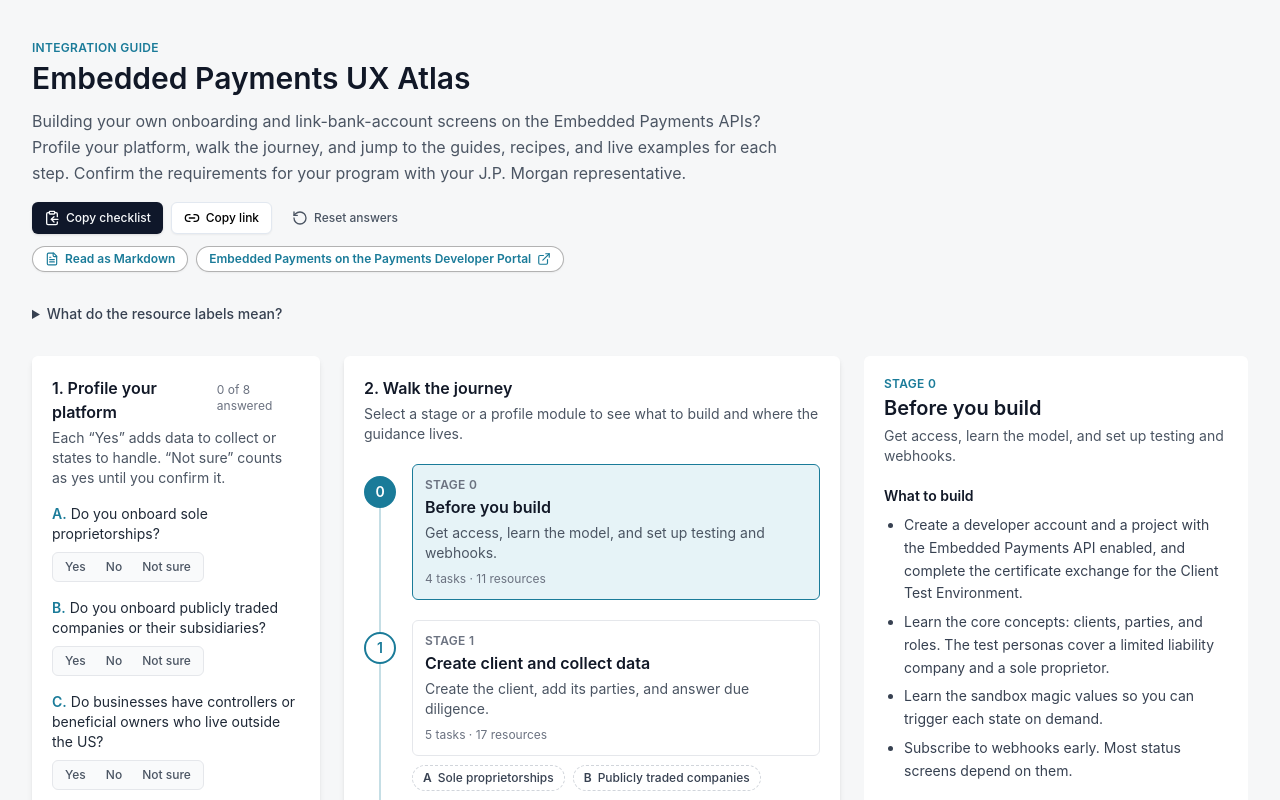
Test case: UxAtlasPage › records answers in the search state and shows them on the map
The image size is (1280, 800).
Step 1. Click the radio button labelled "Yes" below "Do you onboard sole proprietorships?" → point(75, 566), box left=65, top=559, right=86, bottom=574
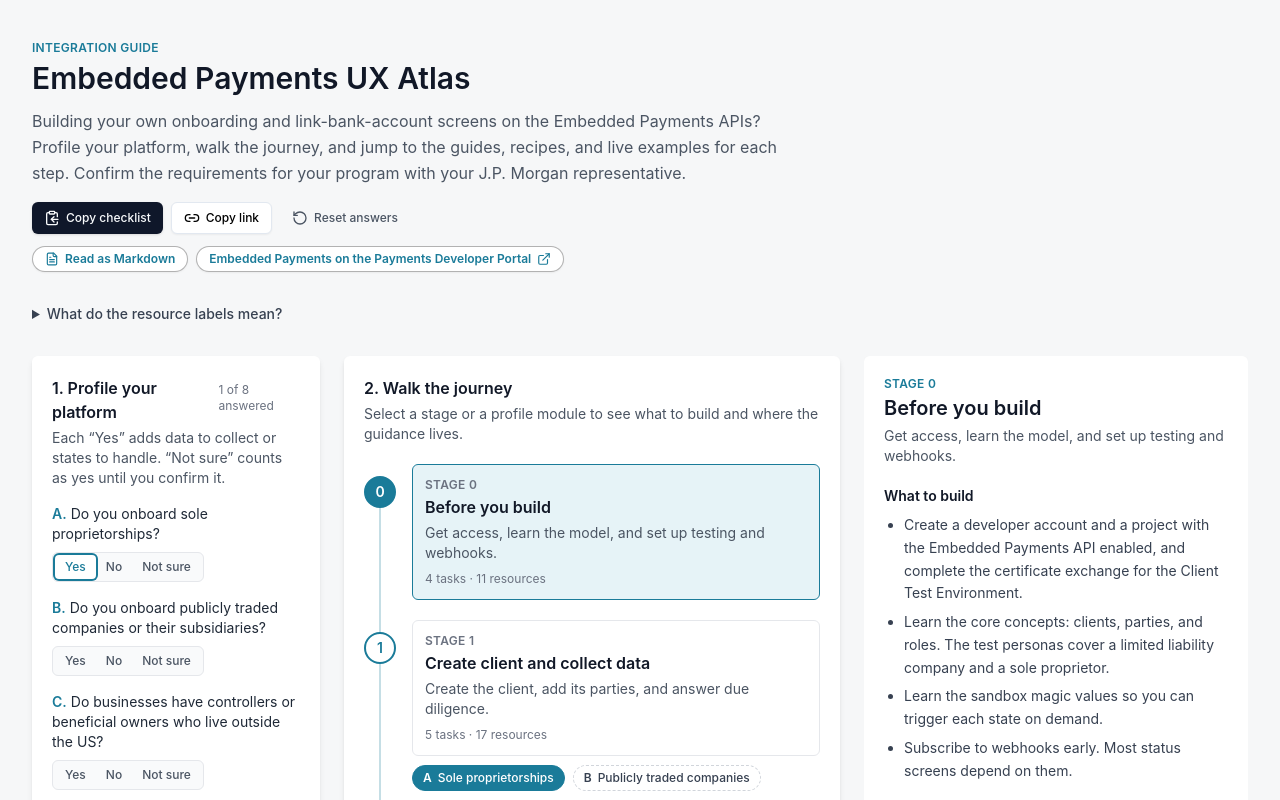
Expected: the button "A Sole proprietorships" is shown, left=412, top=765, right=565, bottom=791
Expected: the text "1 of 8 answered" is shown, left=218, top=382, right=274, bottom=413
